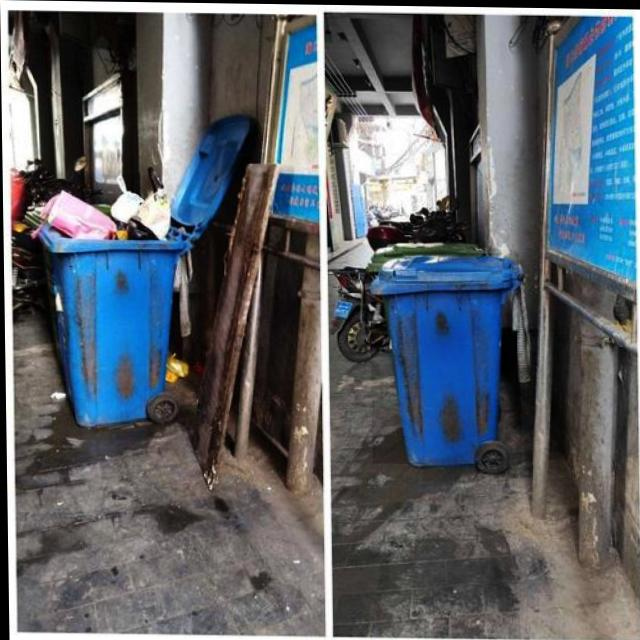garbage_bin: (369, 250, 520, 464)
overflow: (32, 173, 193, 427)
